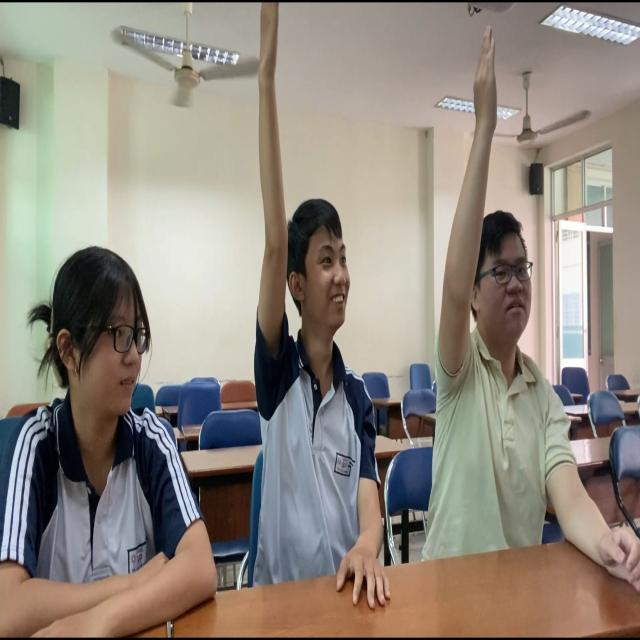raise_hand: (213, 1, 423, 623), (424, 10, 633, 616)
